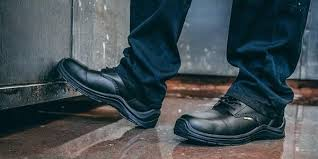Shoes: (63, 54, 162, 127), (177, 90, 295, 140)
